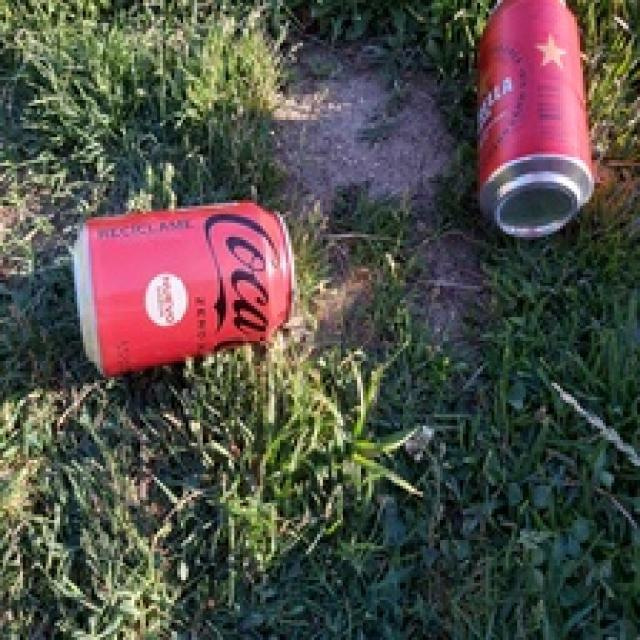recyclable: (70, 199, 294, 380), (474, 0, 596, 238)
